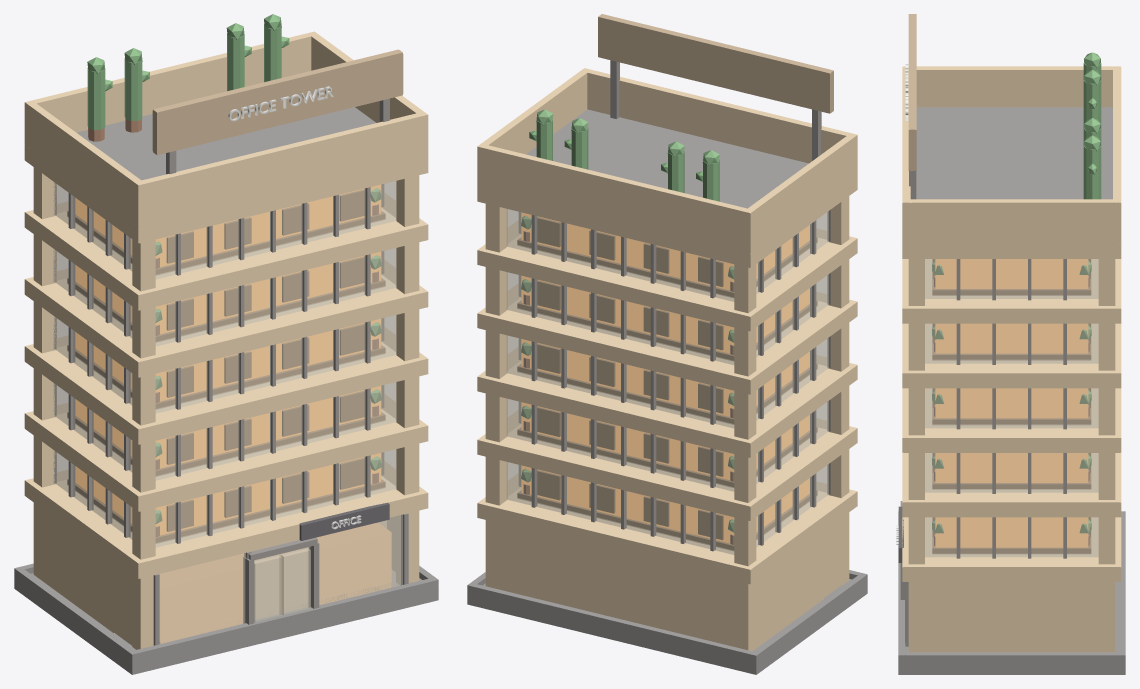
The model's file is 31-office-tower.glb.
3 renders of one model, left to right at view 1: azimuth 30°, elevation 25°; view 2: azimuth 150°, elevation 25°; view 3: azimuth 270°, elevation 25°, orthographic. The views are drawn at different scales.
Parts seen in each view (by area): view 1: GF_Glass, ParapetF, Slab2, Slab3, Slab1, Slab4, OfficeTowerPlaque, SlabGF, GF_Glow, B1_Glass, B3_Glass, B2_Glass (+42 smaller); view 2: GF_Core, ParapetB, Slab2, Slab1, Slab3, SlabGF, Slab4, RoofDeck, OfficeTowerPlaque, ParapetF, B1_Glass, B3_Glass (+32 smaller); view 3: RoofDeck, GF_Core, ParapetR, ParapetL, Slab3, Slab1, Slab4, Slab2, SlabGF, B1_Glass, B3_Glass, B4_Glass (+25 smaller).
Boxes of the visible parts, x1,y1,x2,y2 form: GF_Glass: (159, 514, 402, 643); ParapetF: (134, 111, 428, 227); Slab2: (24, 327, 428, 444); Slab3: (24, 260, 428, 377); Slab1: (24, 394, 428, 511); Slab4: (24, 193, 428, 310); OfficeTowerPlaque: (152, 49, 403, 154); SlabGF: (24, 461, 428, 578); GF_Glow: (159, 523, 391, 643); B1_Glass: (55, 449, 396, 547); B3_Glass: (55, 315, 396, 413); B2_Glass: (55, 382, 396, 480); GF_Core: (485, 520, 824, 651); ParapetB: (477, 143, 754, 253); Slab2: (477, 347, 857, 457); Slab1: (477, 410, 857, 520); Slab3: (477, 284, 857, 394); SlabGF: (477, 473, 857, 584); Slab4: (477, 220, 857, 331); RoofDeck: (526, 109, 808, 208); OfficeTowerPlaque: (598, 14, 833, 113); ParapetF: (581, 68, 857, 177); B1_Glass: (506, 462, 828, 554); B3_Glass: (506, 335, 828, 428); RoofDeck: (916, 107, 1112, 199); GF_Core: (960, 582, 1115, 652); ParapetR: (910, 199, 1112, 243); ParapetL: (916, 66, 1112, 107); Slab3: (902, 323, 1121, 388); Slab1: (902, 452, 1121, 517); Slab4: (902, 259, 1121, 323); Slab2: (902, 388, 1121, 452); SlabGF: (902, 517, 1121, 581); B1_Glass: (925, 517, 1098, 557); B3_Glass: (925, 388, 1098, 428); B4_Glass: (925, 323, 1098, 363).
Bounding box in the file's own units: 3.3 × 5.67 × 2.22.
